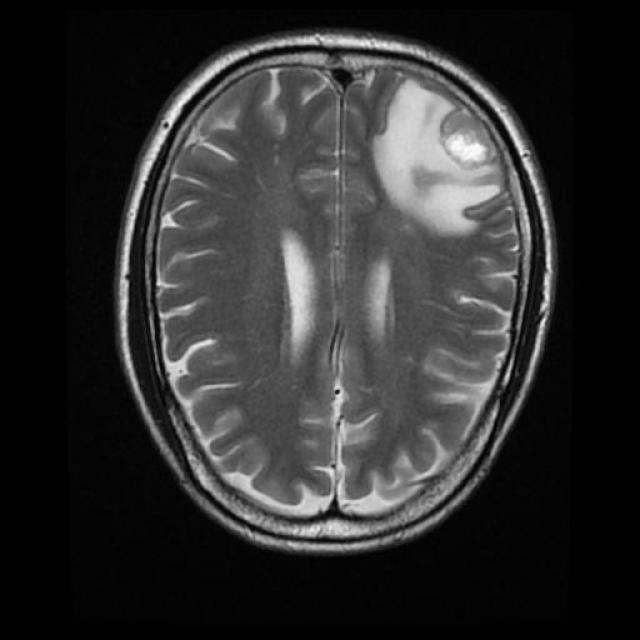brain tumor: (370, 76, 506, 236)
